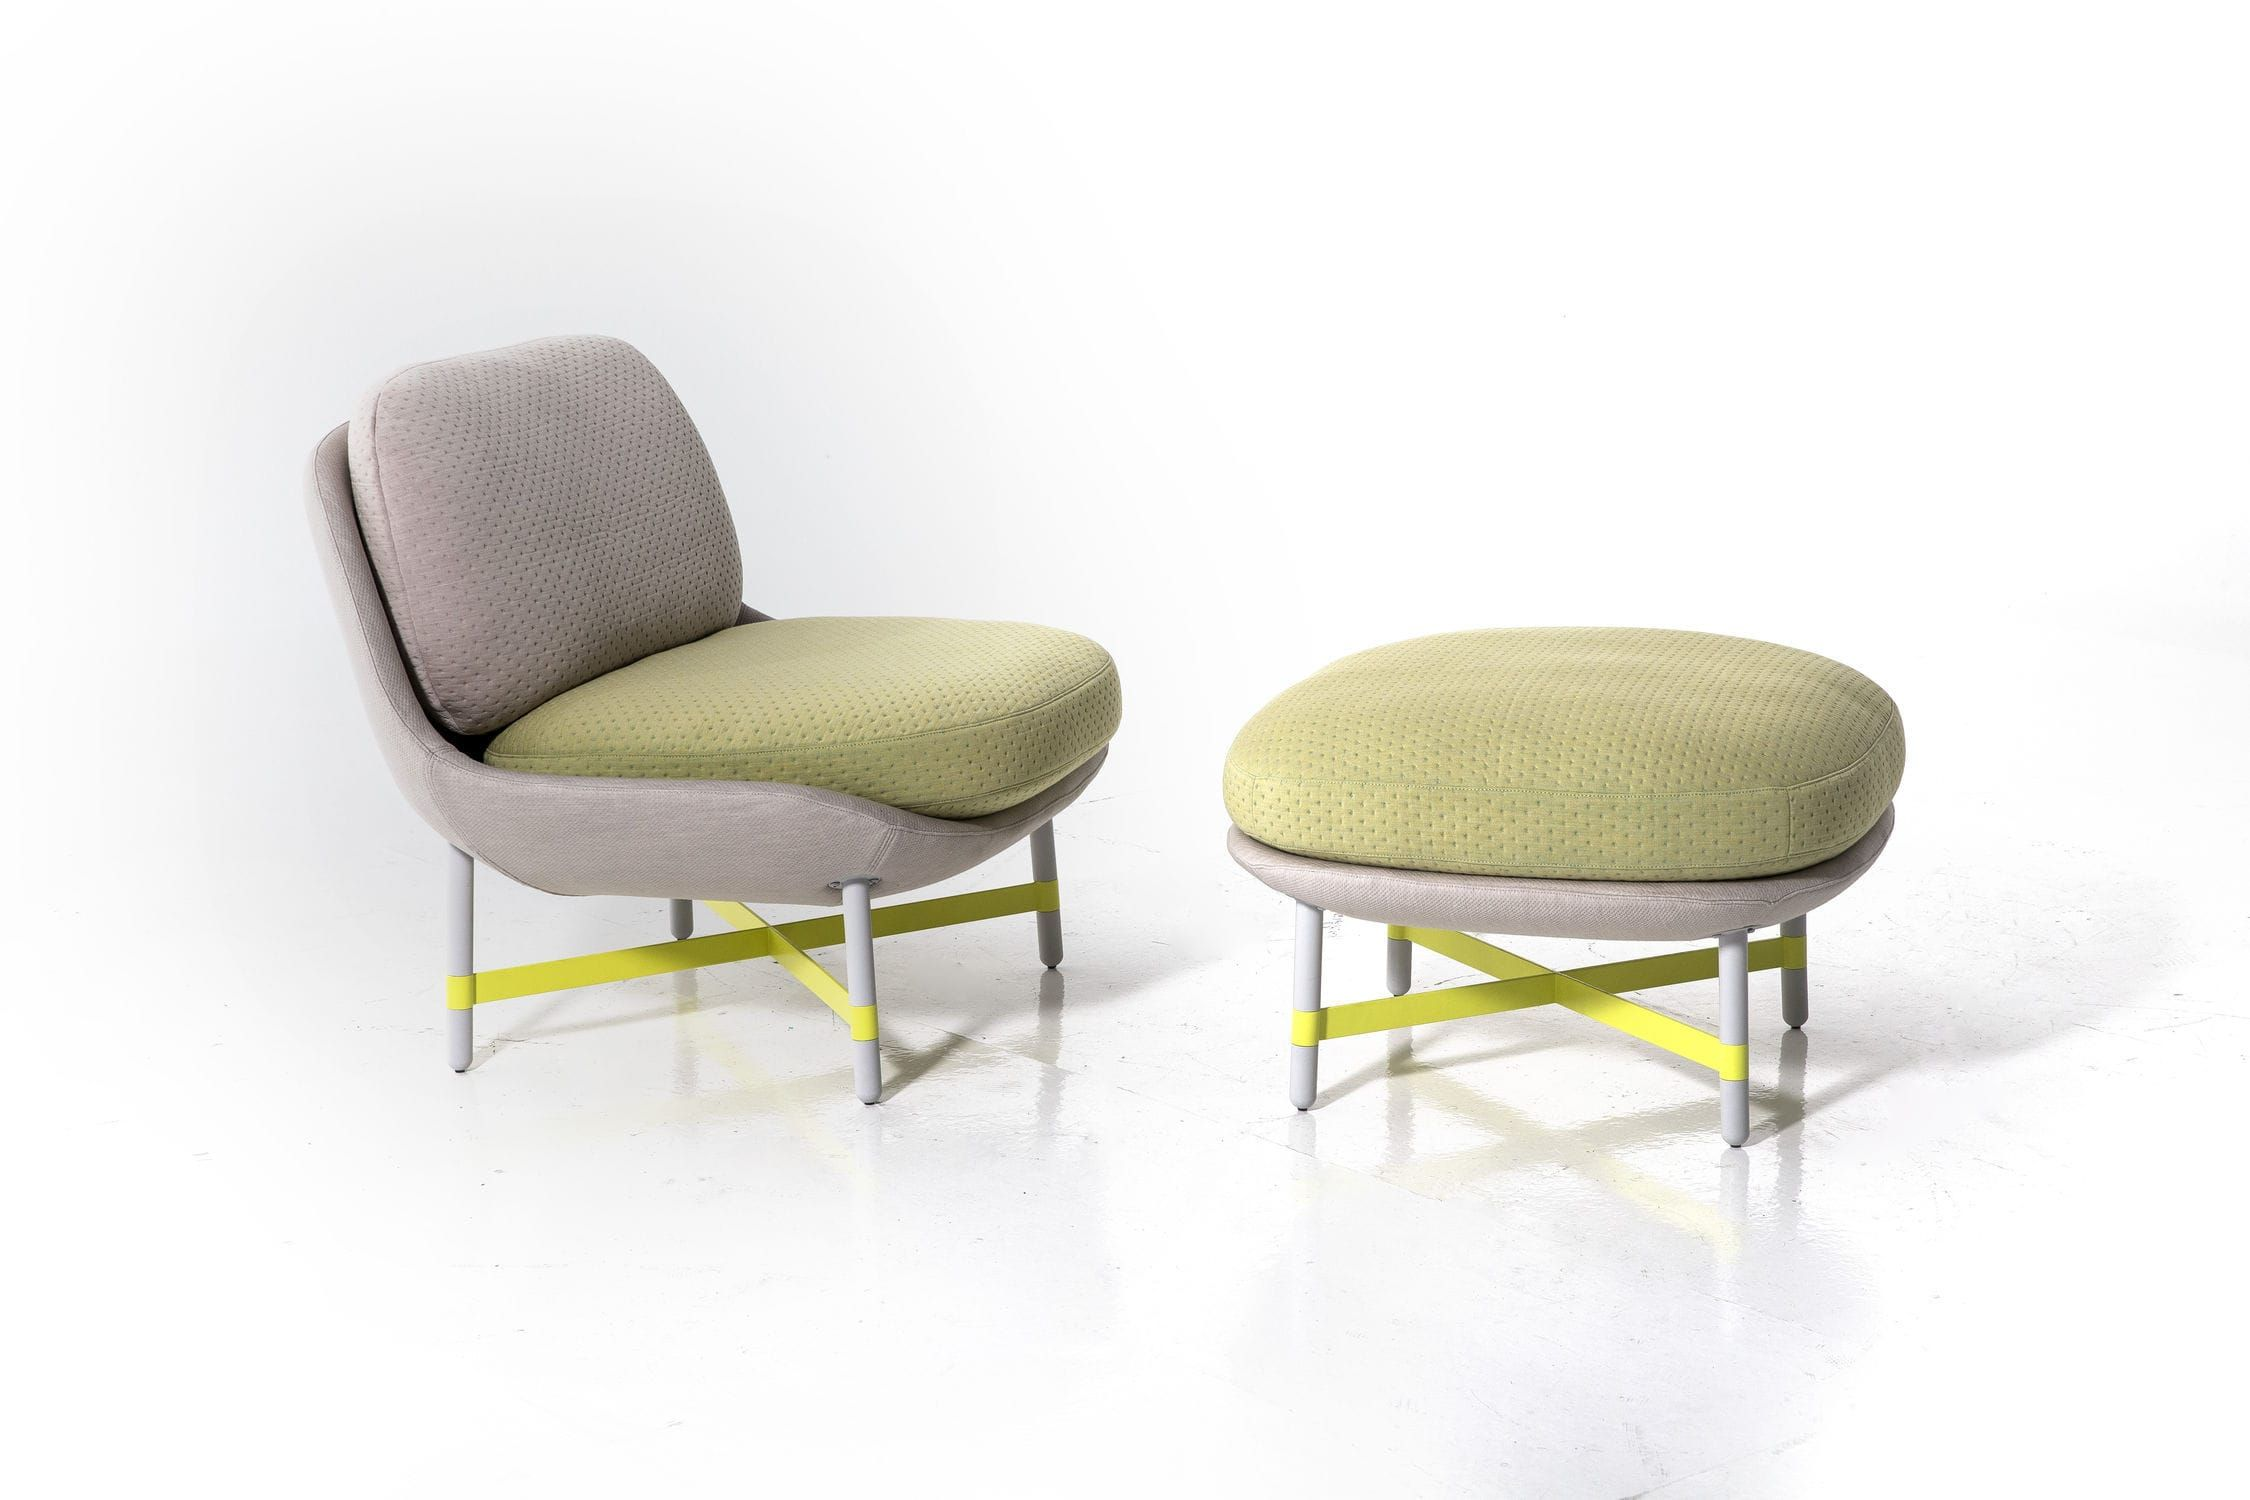chairs: (296, 330, 1123, 1110), (1219, 609, 1914, 1174)
